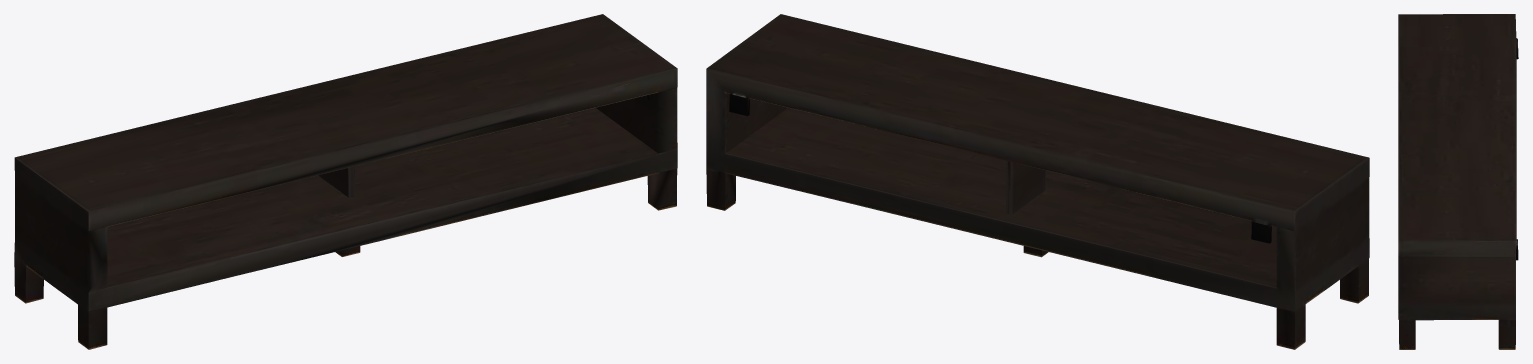
3 views of the same model, side by side, from view 1: azimuth 30°, elevation 25°; view 2: azimuth 150°, elevation 25°; view 3: azimuth 270°, elevation 25° (orthographic). The views are drawn at different scales.
Visible parts, largest first — view 1: ProcessedMeshNode; view 2: ProcessedMeshNode; view 3: ProcessedMeshNode.
Boxes of the visible parts, x1,y1,x2,y2 form: ProcessedMeshNode: (14, 14, 677, 349); ProcessedMeshNode: (706, 14, 1369, 349); ProcessedMeshNode: (1398, 14, 1518, 349).
Bounding box in the file's own units: 1.6 × 0.3607 × 0.3581.
Materials: 1 (1 with a texture image).
